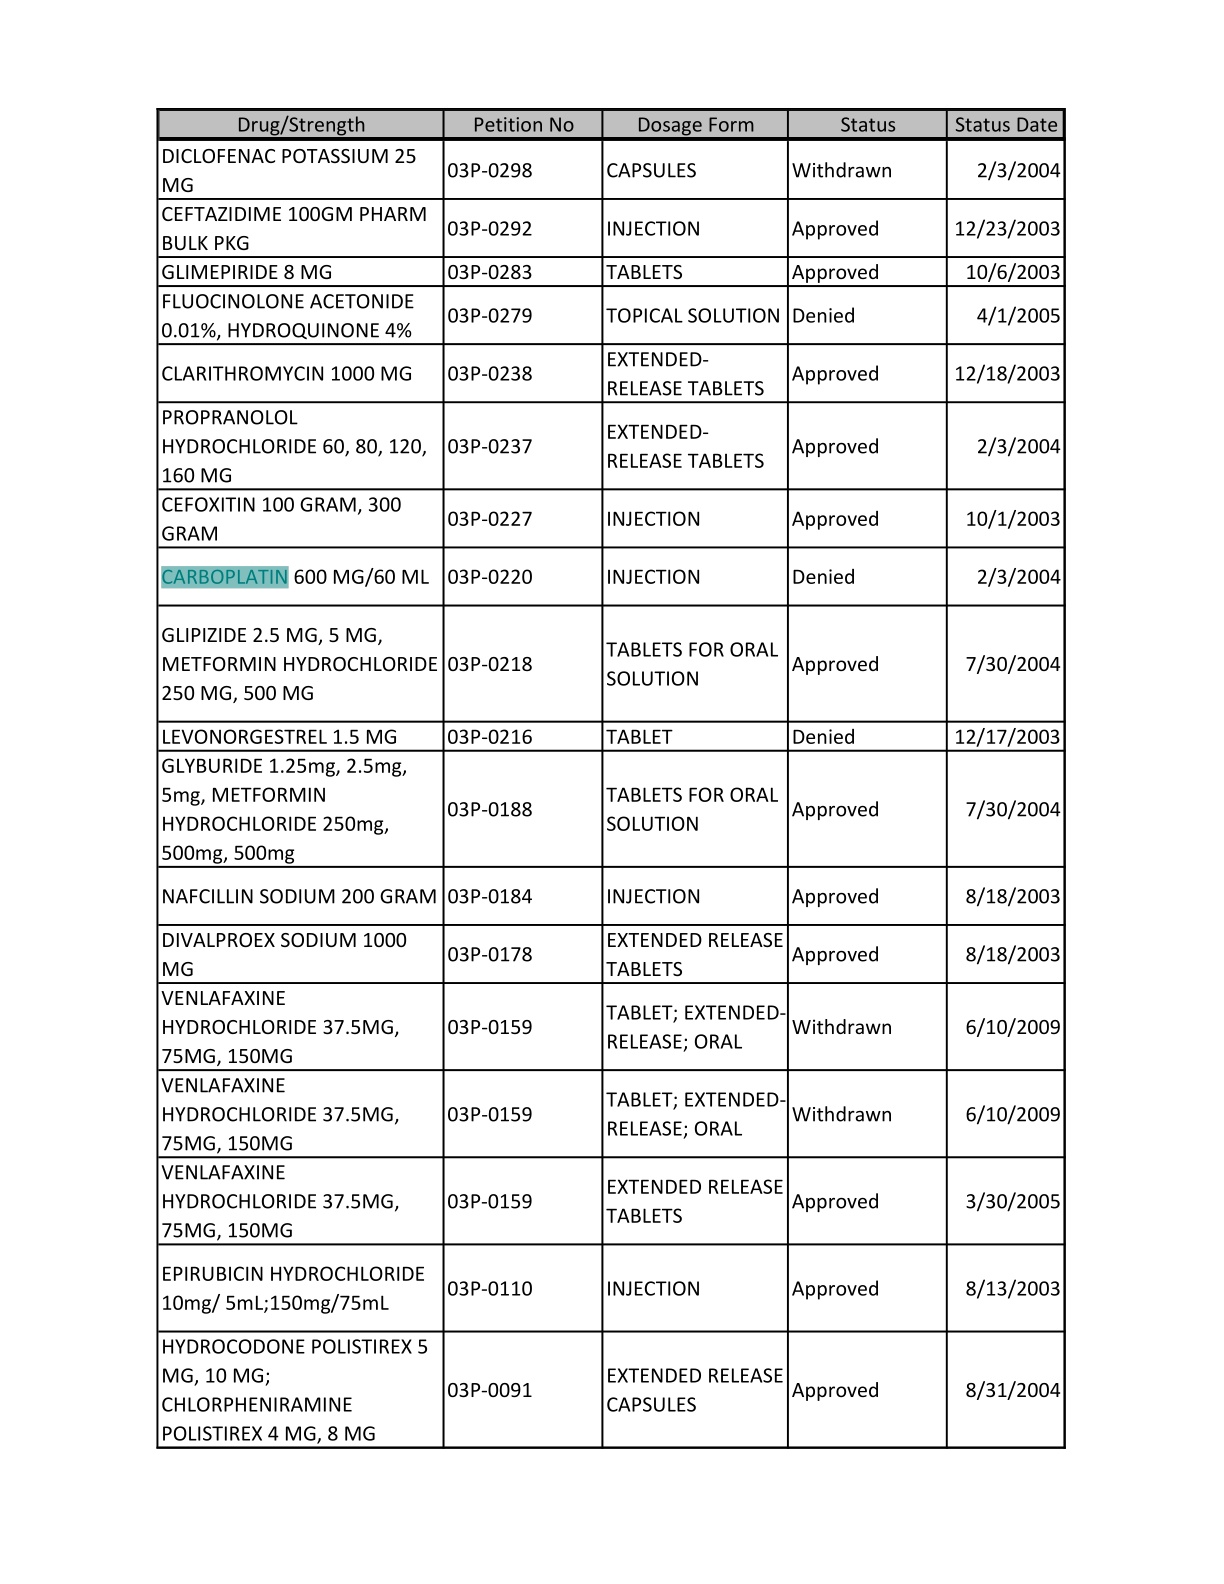full_lined: (154, 107, 1067, 1450)
